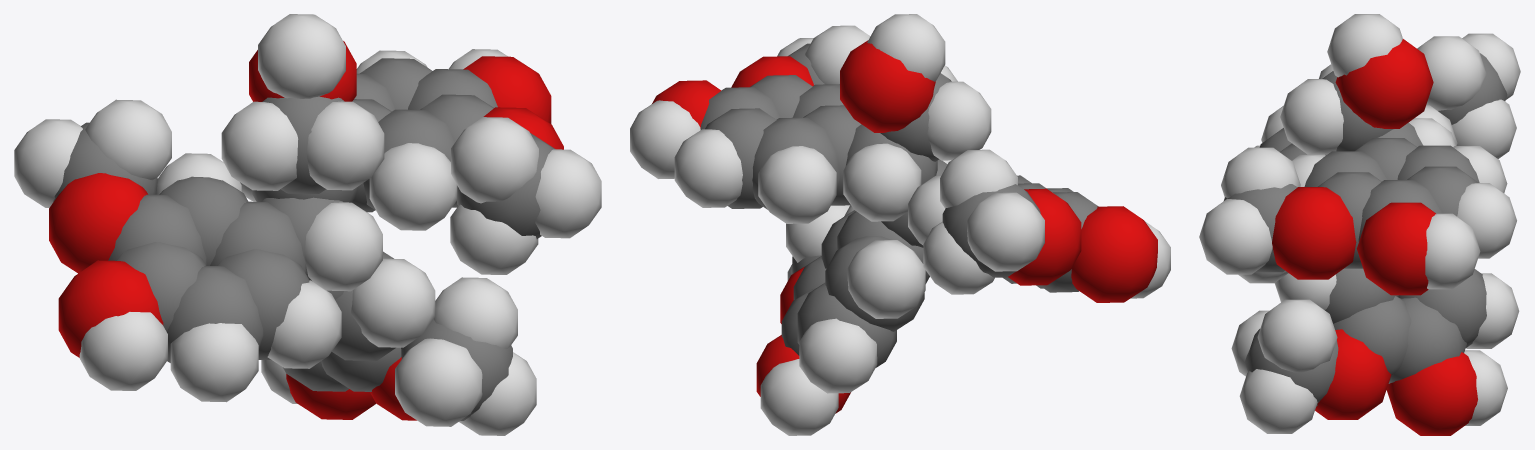
File: quebecol.obj
3 renders of one model, left to right at view 1: azimuth 30°, elevation 25°; view 2: azimuth 150°, elevation 25°; view 3: azimuth 270°, elevation 25°, orthographic. The views are drawn at different scales.
Size of the model in its own units: 14.42 by 11.73 by 8.84.
